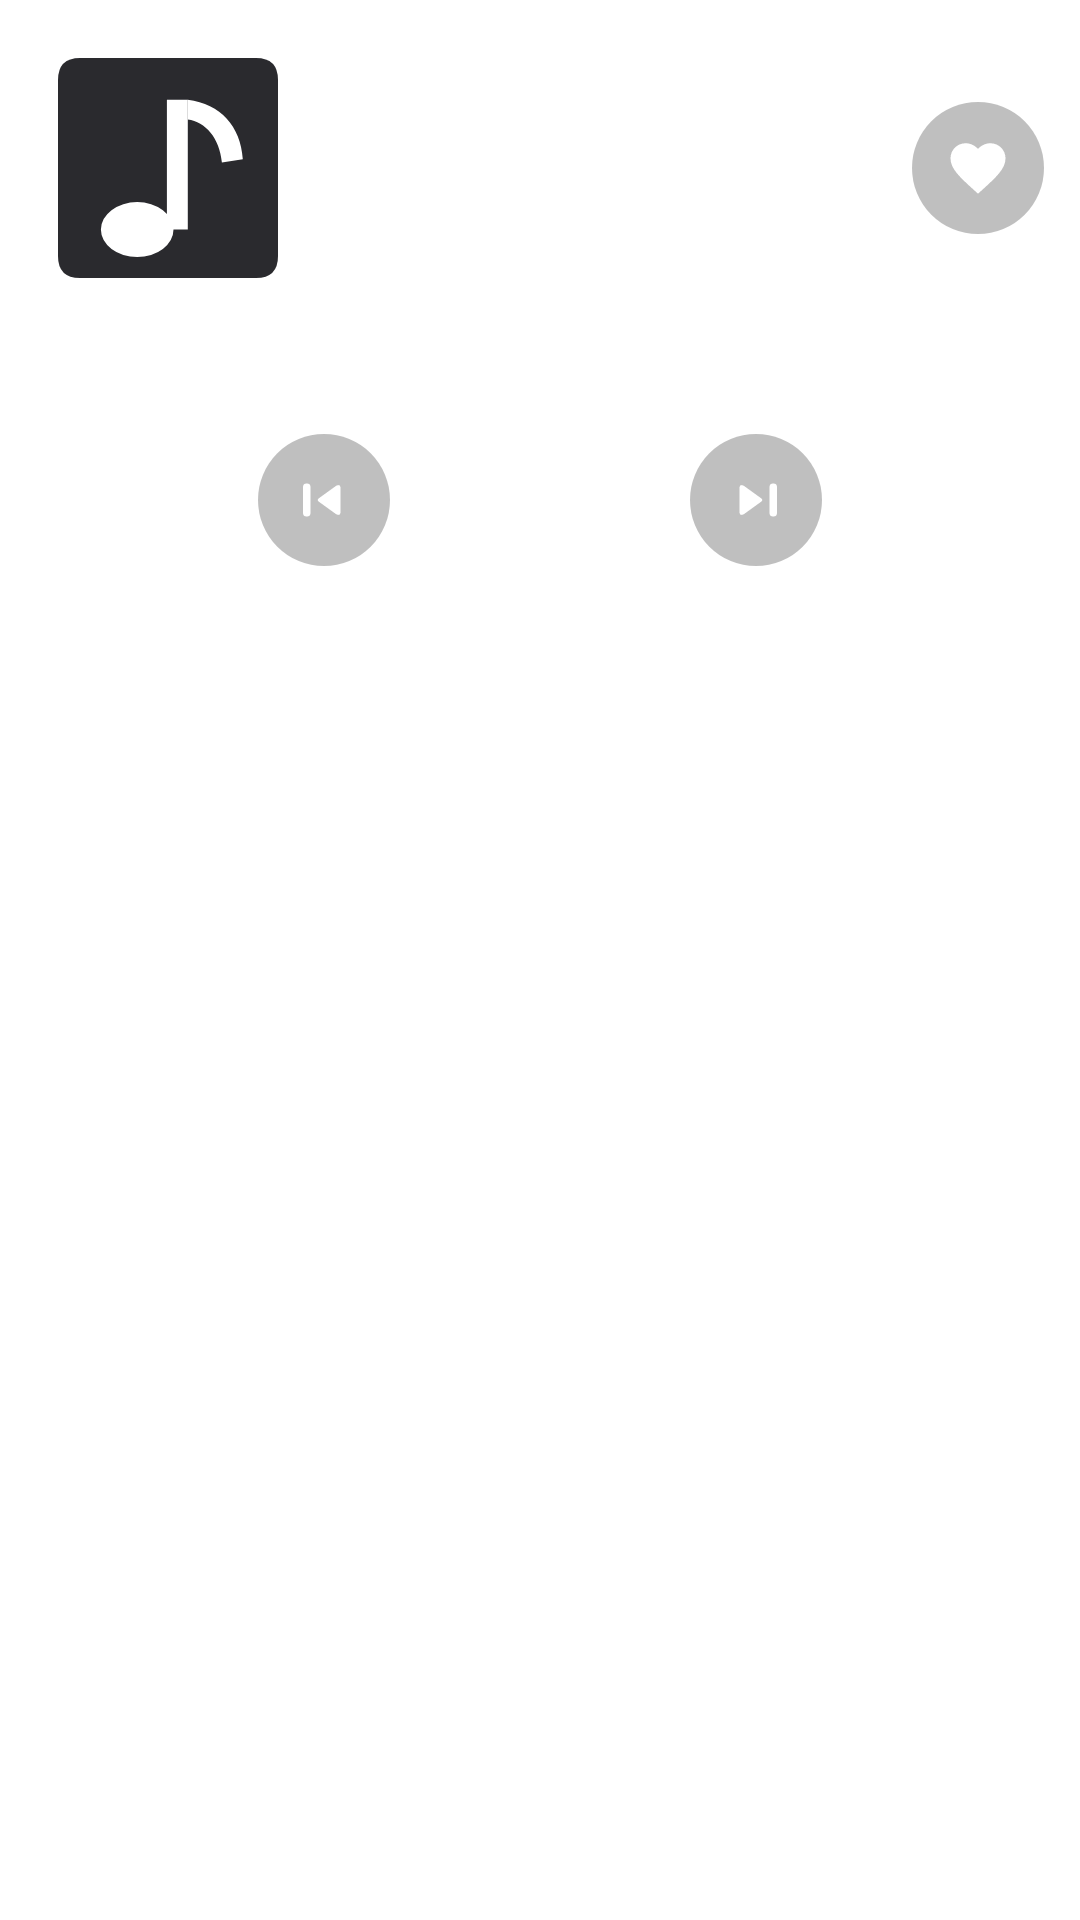

Icons on this 1080px x 1920px Android screen, each with its box as rect(x1, y1, x2, y2):
notif heart: rect(912, 102, 1044, 234)
notif next: rect(690, 434, 822, 566)
notif prev: rect(258, 434, 390, 566)
